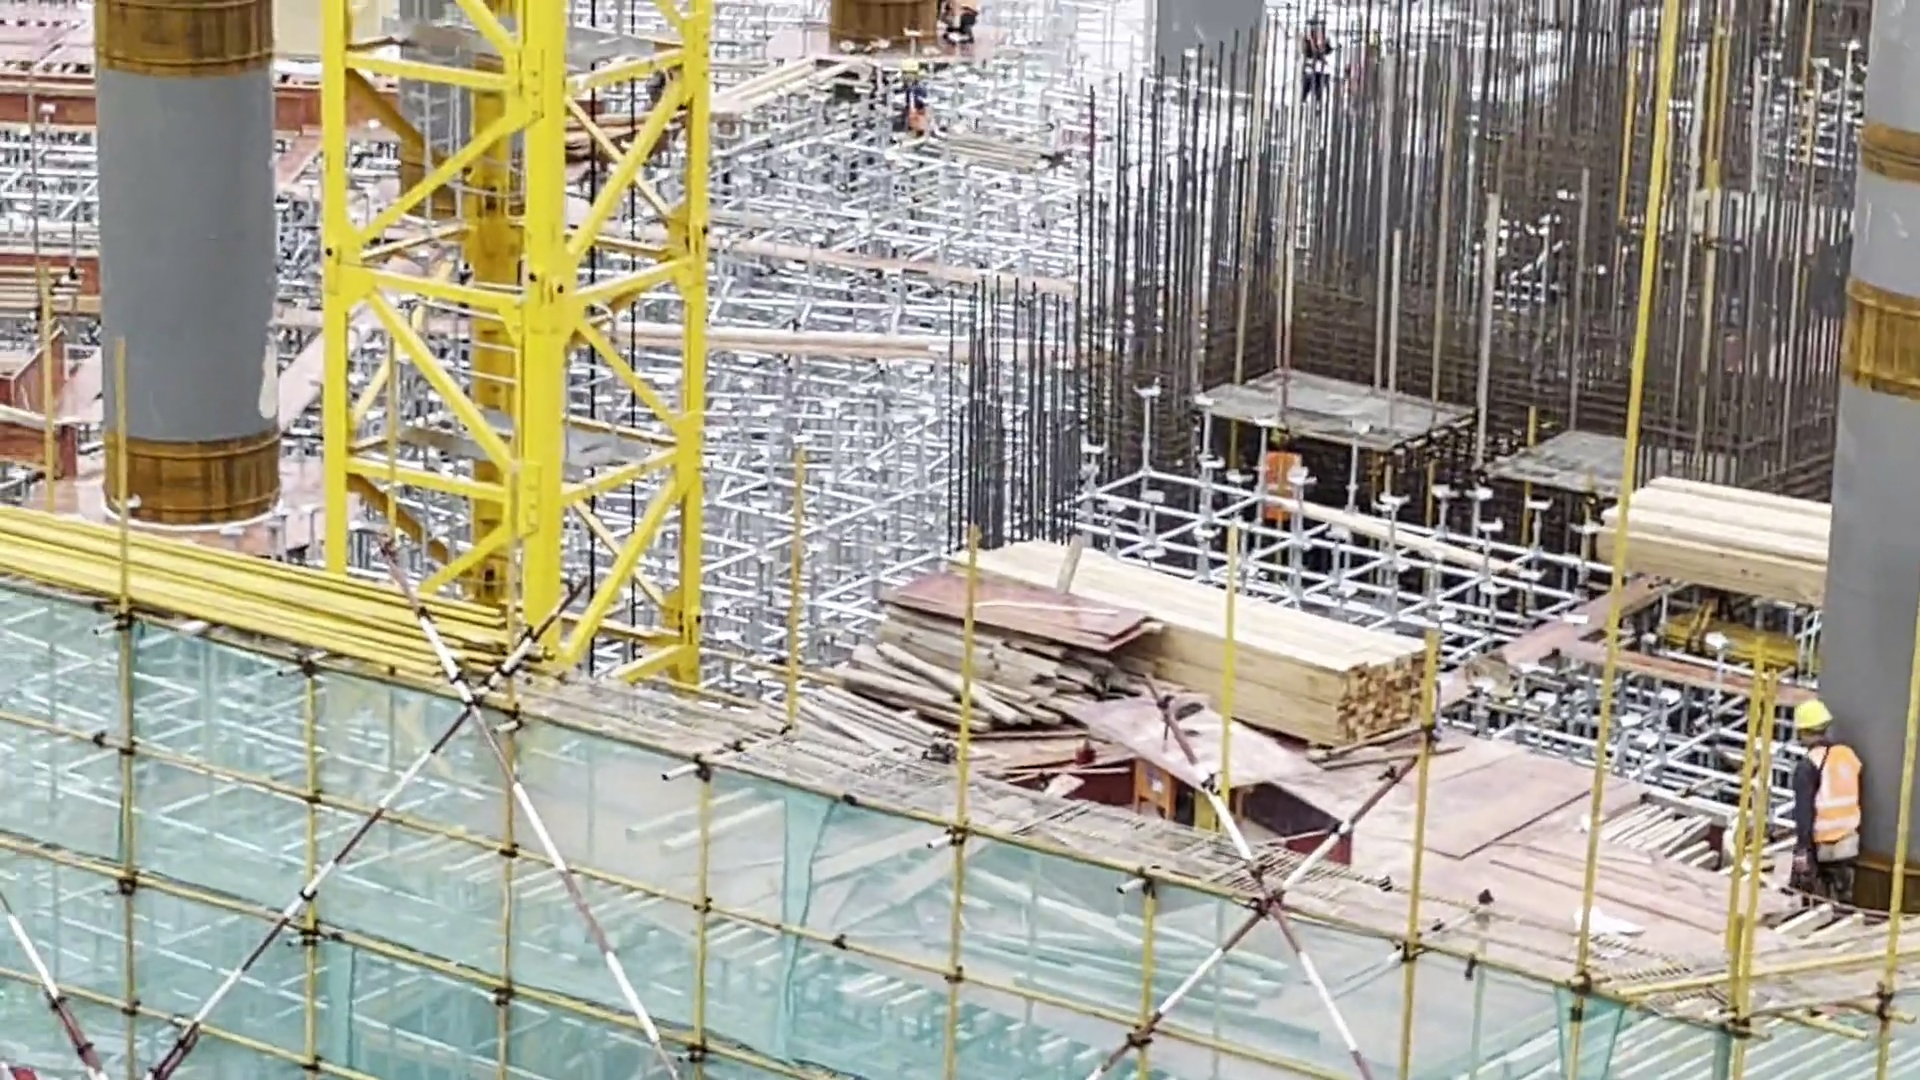helmet: (1790, 699, 1839, 739)
person: (1773, 703, 1868, 894)
vest: (1776, 739, 1867, 839)
